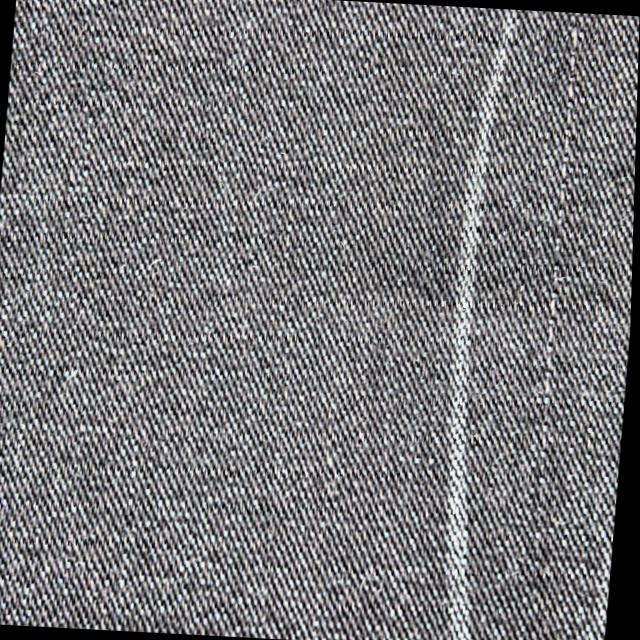Hole: (539, 254, 570, 396), (556, 58, 584, 190)
